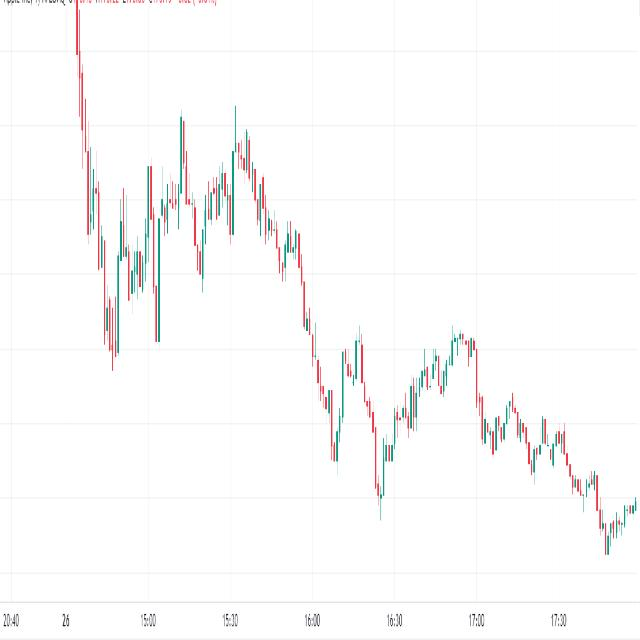Ascending-Triangle: (61, 118, 314, 500)
